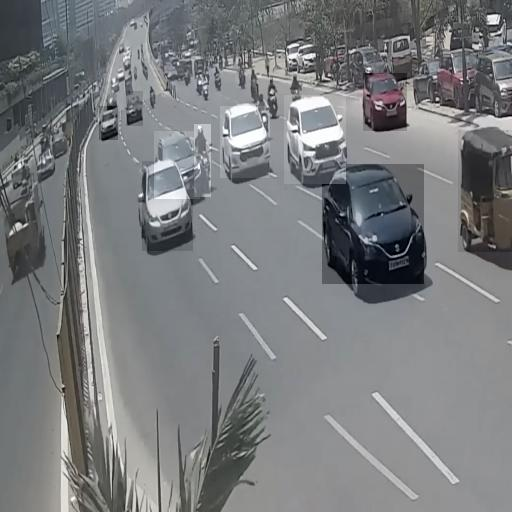小汽车: (322, 164, 424, 284), (458, 130, 512, 252), (284, 95, 346, 184), (142, 162, 193, 252), (220, 106, 270, 178), (154, 132, 200, 200), (363, 73, 407, 131), (99, 106, 118, 140), (126, 91, 143, 126)
自行车: (194, 124, 211, 197)
